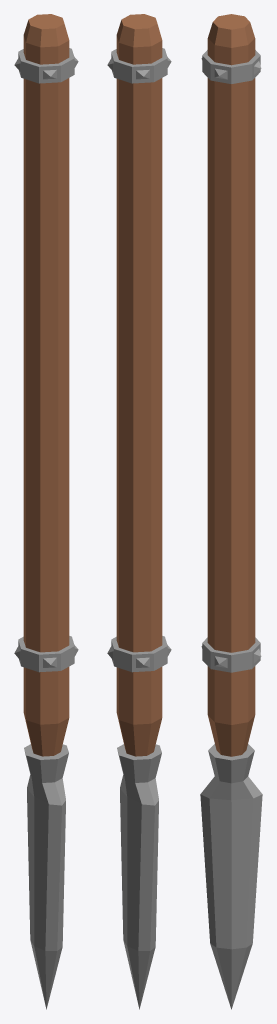
File: spearFixed.fbx
3 renders of one model, left to right at view 1: azimuth 30°, elevation 25°; view 2: azimuth 210°, elevation 25°; view 3: azimuth 270°, elevation 25°, orthographic.
Visible parts, largest first — view 1: Circle; view 2: Circle; view 3: Circle.
Boxes of the visible parts, <box> form: Circle: <box>14,14,78,1009</box>; Circle: <box>107,14,171,1009</box>; Circle: <box>200,14,262,1009</box>.
Size of the model in its own units: 25.61 by 466 by 26.61.
